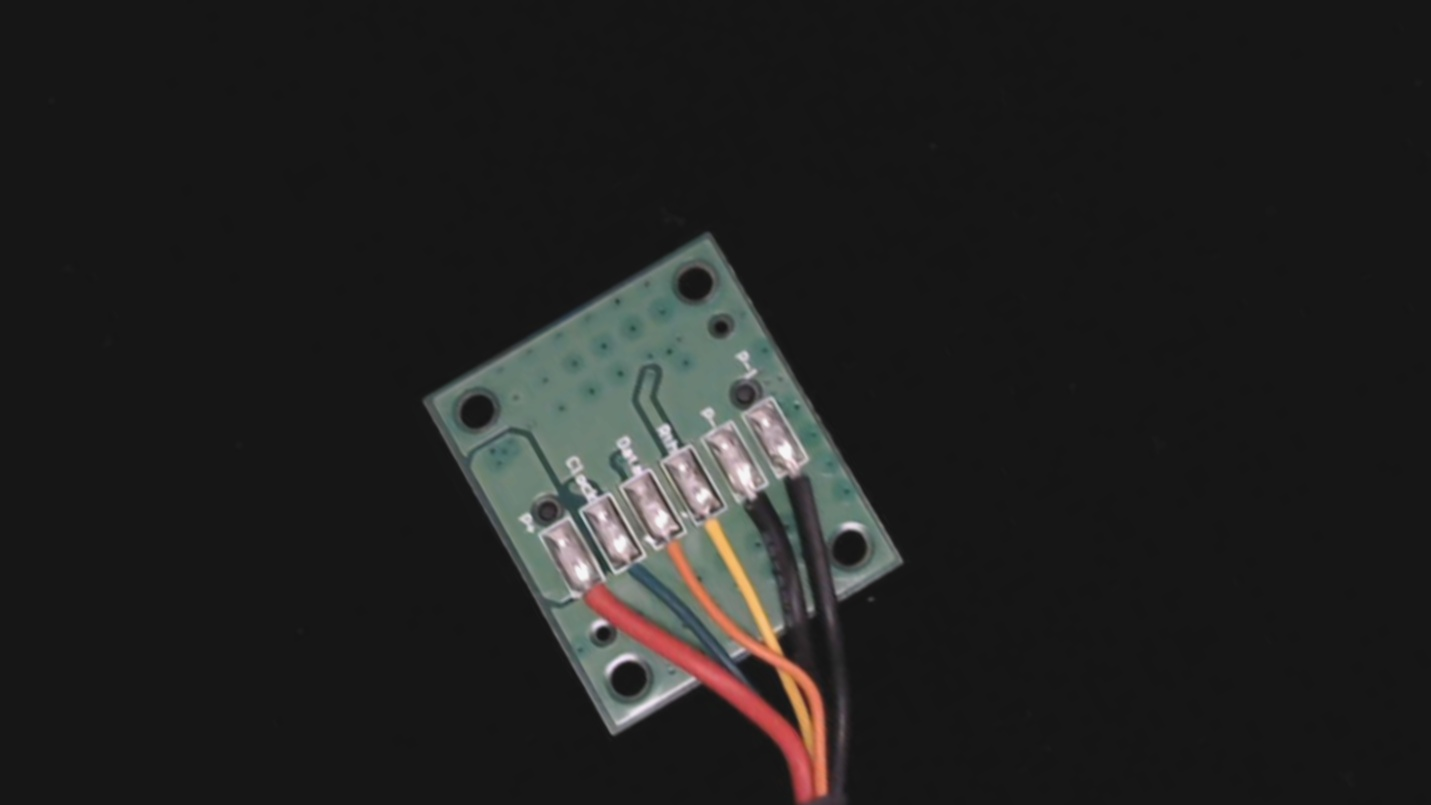Black: (718, 462, 806, 559)
Black1: (762, 439, 845, 529)
Green: (597, 534, 668, 613)
Orange: (639, 514, 722, 606)
Red: (556, 557, 642, 651)
Yellow: (678, 488, 766, 586)
